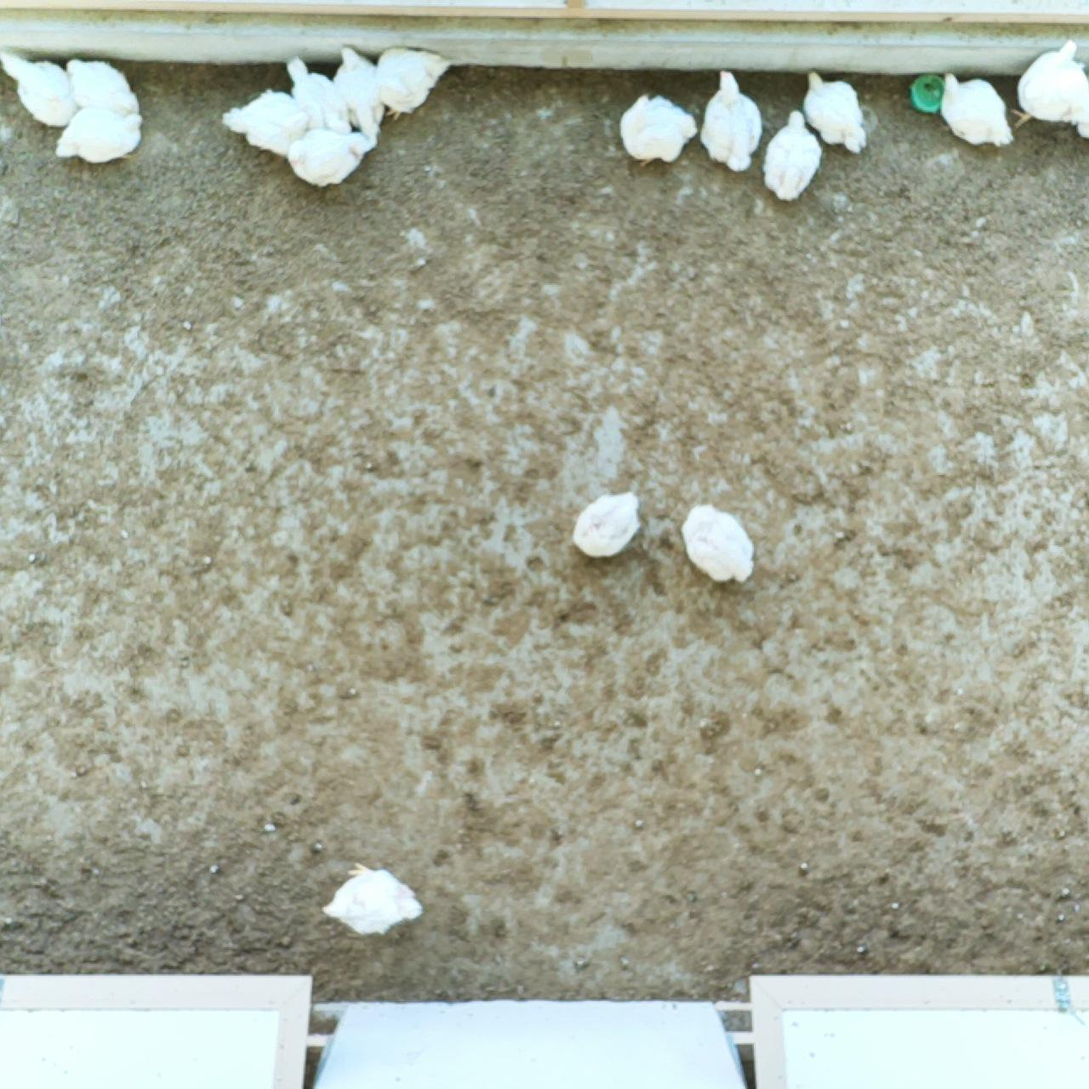chicken: (1008, 36, 1089, 127), (324, 862, 423, 935), (702, 68, 763, 171), (223, 88, 314, 157), (0, 46, 80, 124), (620, 91, 699, 169), (938, 69, 1015, 147), (683, 504, 755, 584), (376, 44, 448, 122), (286, 55, 355, 134), (763, 111, 823, 201), (803, 69, 868, 152), (334, 47, 386, 142), (56, 108, 145, 163), (286, 131, 366, 189), (574, 490, 640, 558), (67, 58, 139, 120)
